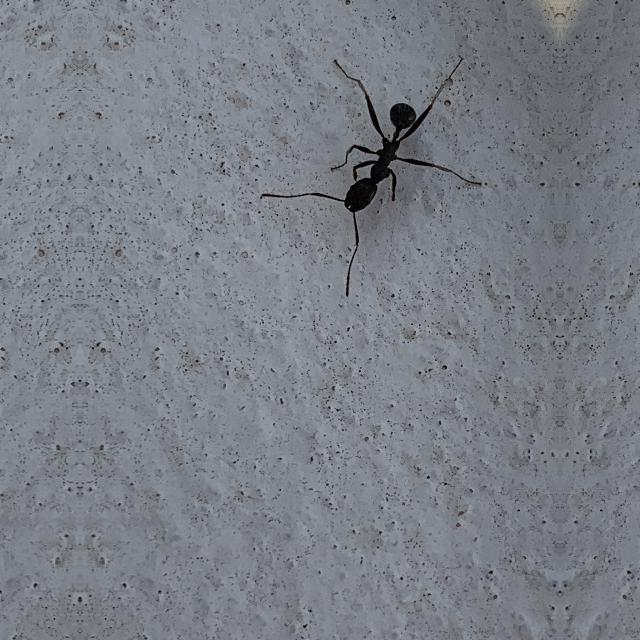Apheanogaster: (324, 74, 440, 245)
